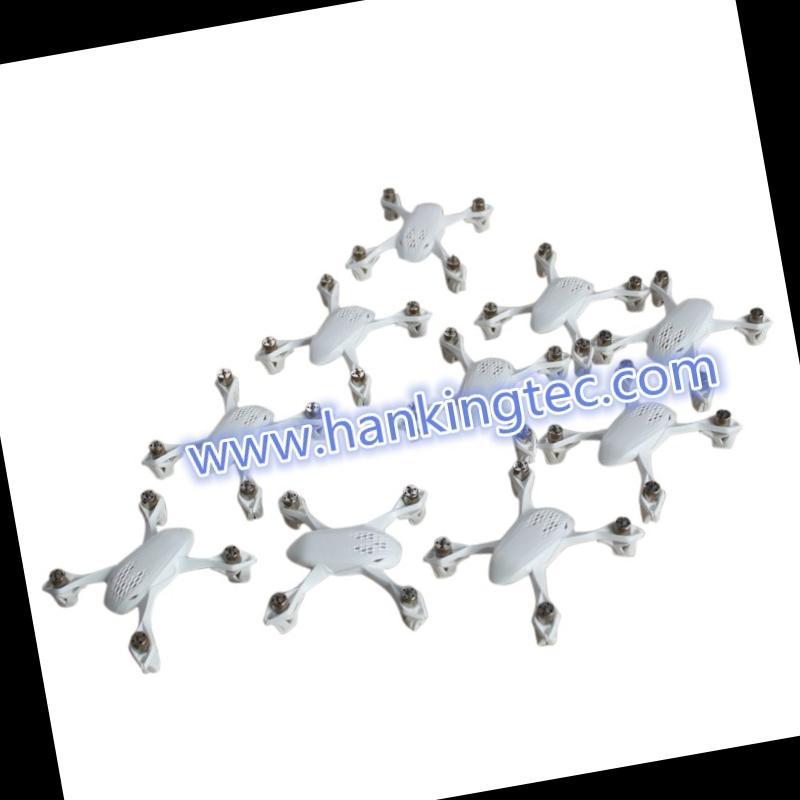drone: (407, 441, 666, 667), (38, 489, 276, 692), (118, 356, 344, 542), (533, 348, 753, 536), (458, 202, 660, 394), (234, 246, 450, 424), (252, 462, 447, 654), (578, 243, 787, 420), (397, 306, 602, 469), (324, 156, 507, 311)
